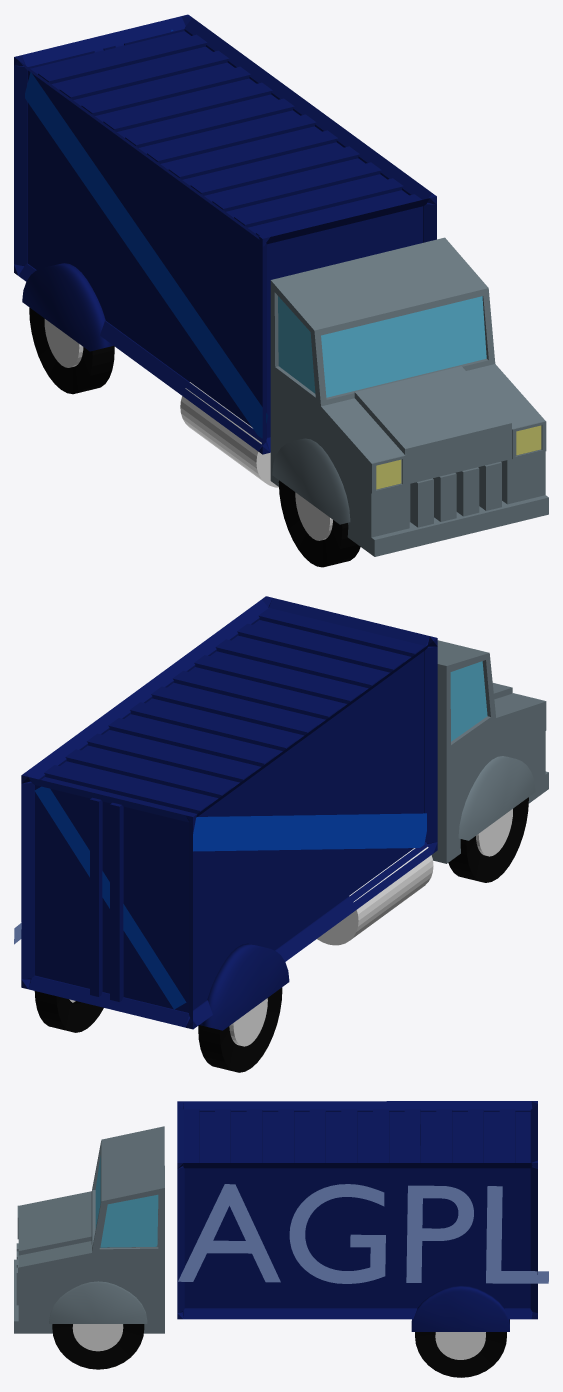
Rendered from Freight.dae.
The picture shows the model from 3 angles, top to bottom: view 1: azimuth 30°, elevation 25°; view 2: azimuth 150°, elevation 25°; view 3: azimuth 270°, elevation 25°; orthographic projection. The views are drawn at different scales.
Visible parts, largest first — view 1: Cube_001, Cube, windshield, Plane_002, Cylinder_005, Cylinder, Circle_003, Cylinder_008, Circle_001, windshield_001, Cylinder_004, Cylinder_001; view 2: Cube_001, Cube, Plane_002, Cylinder_005, Cylinder, Plane_004, Cylinder_008, Circle_003, Circle_001, windshield_001, Circle_004, Cylinder_004 (+1 smaller); view 3: Cube_001, Cube, Text, Cylinder_006, Cylinder_003, windshield_002, Circle_002, Circle_004, Cylinder_007, Cylinder_002.
Part boxes in pixels (left/top/right/bottom): Cube_001: left=14, top=14, right=436, bottom=454; Cube: left=270, top=237, right=548, bottom=556; windshield: left=321, top=296, right=486, bottom=397; Plane_002: left=25, top=72, right=268, bottom=438; Cylinder_005: left=22, top=263, right=113, bottom=351; Cylinder: left=272, top=438, right=350, bottom=524; Circle_003: left=29, top=307, right=114, bottom=394; Cylinder_008: left=180, top=382, right=278, bottom=487; Circle_001: left=278, top=480, right=360, bottom=567; windshield_001: left=278, top=296, right=315, bottom=393; Cylinder_004: left=44, top=319, right=83, bottom=367; Cylinder_001: left=295, top=492, right=332, bottom=540; Cube_001: left=21, top=596, right=437, bottom=1029; Cube: left=431, top=640, right=548, bottom=863; Plane_002: left=193, top=813, right=426, bottom=851; Cylinder_005: left=200, top=943, right=289, bottom=1030; Cylinder: left=458, top=756, right=535, bottom=840; Plane_004: left=34, top=786, right=186, bottom=1009; Cylinder_008: left=317, top=847, right=433, bottom=945; Circle_003: left=198, top=987, right=282, bottom=1072; Circle_001: left=448, top=797, right=528, bottom=882; windshield_001: left=450, top=661, right=487, bottom=741; Circle_004: left=34, top=991, right=103, bottom=1032; Cylinder_004: left=229, top=998, right=267, bottom=1046; Cube_001: left=177, top=1101, right=537, bottom=1319; Cube: left=14, top=1126, right=164, bottom=1333; Text: left=178, top=1184, right=548, bottom=1283; Cylinder_006: left=411, top=1285, right=509, bottom=1331; Cylinder_003: left=49, top=1281, right=147, bottom=1323; windshield_002: left=100, top=1194, right=158, bottom=1247; Circle_002: left=52, top=1324, right=144, bottom=1369; Circle_004: left=415, top=1332, right=506, bottom=1377; Cylinder_007: left=435, top=1332, right=485, bottom=1359; Cylinder_002: left=72, top=1324, right=123, bottom=1351.
Bounding box in the file's own units: 1.02 × 3.33 × 1.46.
